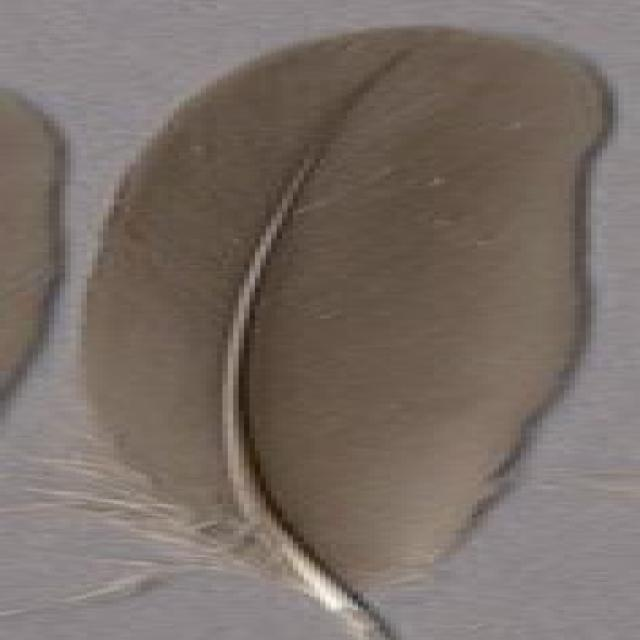feather: (48, 21, 618, 640)
